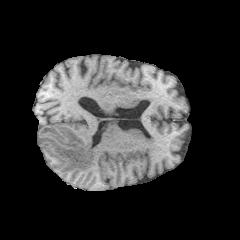glioma: (40, 128, 97, 172)
